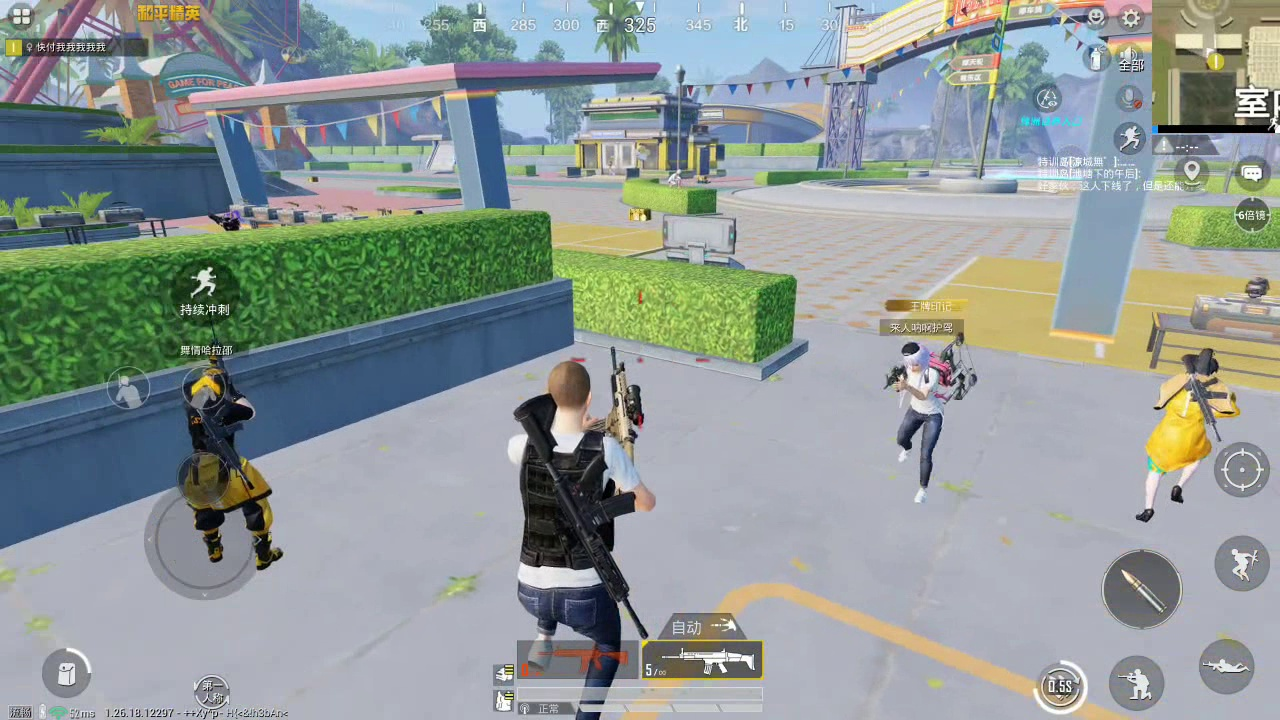enemy: (185, 361, 289, 574), (1143, 350, 1232, 527), (885, 343, 940, 498), (668, 169, 683, 183)
